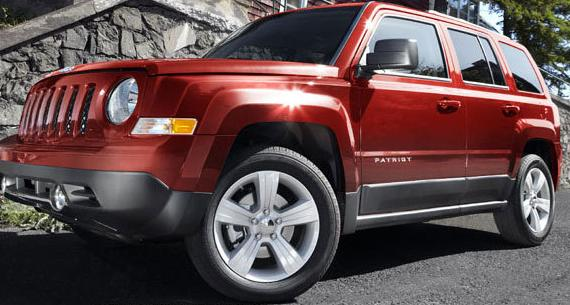front_view: (2, 63, 213, 252)
headlight: (100, 72, 203, 142)
side_glass: (345, 4, 550, 103)
